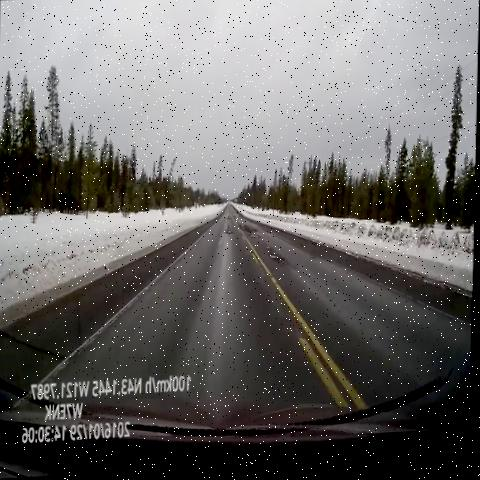pothole: (240, 223, 267, 251), (263, 252, 286, 273), (221, 230, 242, 248), (225, 216, 238, 231)
